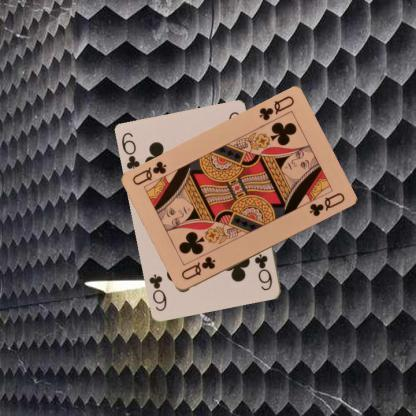6c: (119, 130, 142, 172), (252, 252, 274, 292)
Qc: (256, 93, 296, 123), (178, 254, 216, 283)
